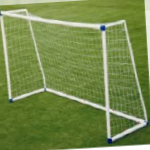goals: (1, 8, 150, 144)
